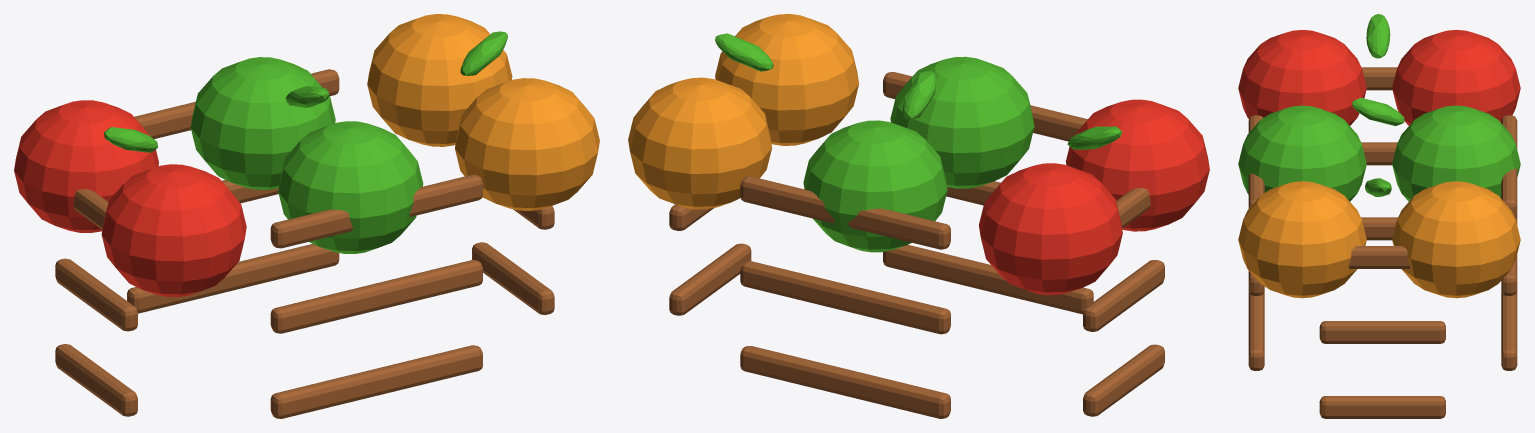
File: PR3D_Environment_IngredientCrate.fbx
The picture shows the model from 3 angles, left to right: view 1: azimuth 30°, elevation 25°; view 2: azimuth 150°, elevation 25°; view 3: azimuth 270°, elevation 25°; orthographic projection. The views are drawn at different scales.
Visible parts, largest first — view 1: Visual_Batched_Wood.003, Visual_Batched_Basil.001, Visual_Batched_Pepper, Visual_Batched_Tomato; view 2: Visual_Batched_Wood.003, Visual_Batched_Basil.001, Visual_Batched_Pepper, Visual_Batched_Tomato; view 3: Visual_Batched_Pepper, Visual_Batched_Basil.001, Visual_Batched_Tomato, Visual_Batched_Wood.003.
Boxes of the visible parts, x1=… form: Visual_Batched_Wood.003: x1=55, y1=69, x2=554, y2=418; Visual_Batched_Basil.001: x1=104, y1=31, x2=507, y2=253; Visual_Batched_Pepper: x1=367, y1=14, x2=599, y2=210; Visual_Batched_Tomato: x1=14, y1=100, x2=246, y2=297; Visual_Batched_Wood.003: x1=669, y1=72, x2=1164, y2=418; Visual_Batched_Basil.001: x1=715, y1=33, x2=1122, y2=252; Visual_Batched_Pepper: x1=628, y1=14, x2=858, y2=209; Visual_Batched_Tomato: x1=979, y1=99, x2=1209, y2=295; Visual_Batched_Pepper: x1=1238, y1=181, x2=1520, y2=298; Visual_Batched_Basil.001: x1=1238, y1=14, x2=1520, y2=201; Visual_Batched_Tomato: x1=1238, y1=30, x2=1520, y2=125; Visual_Batched_Wood.003: x1=1248, y1=67, x2=1517, y2=418.
Bounding box in the file's own units: 2.12 × 1.1 × 1.23.
